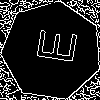E: (27, 25, 78, 66)
